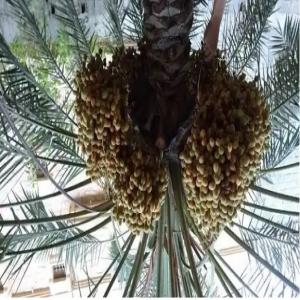palm tree: (1, 0, 298, 297)
